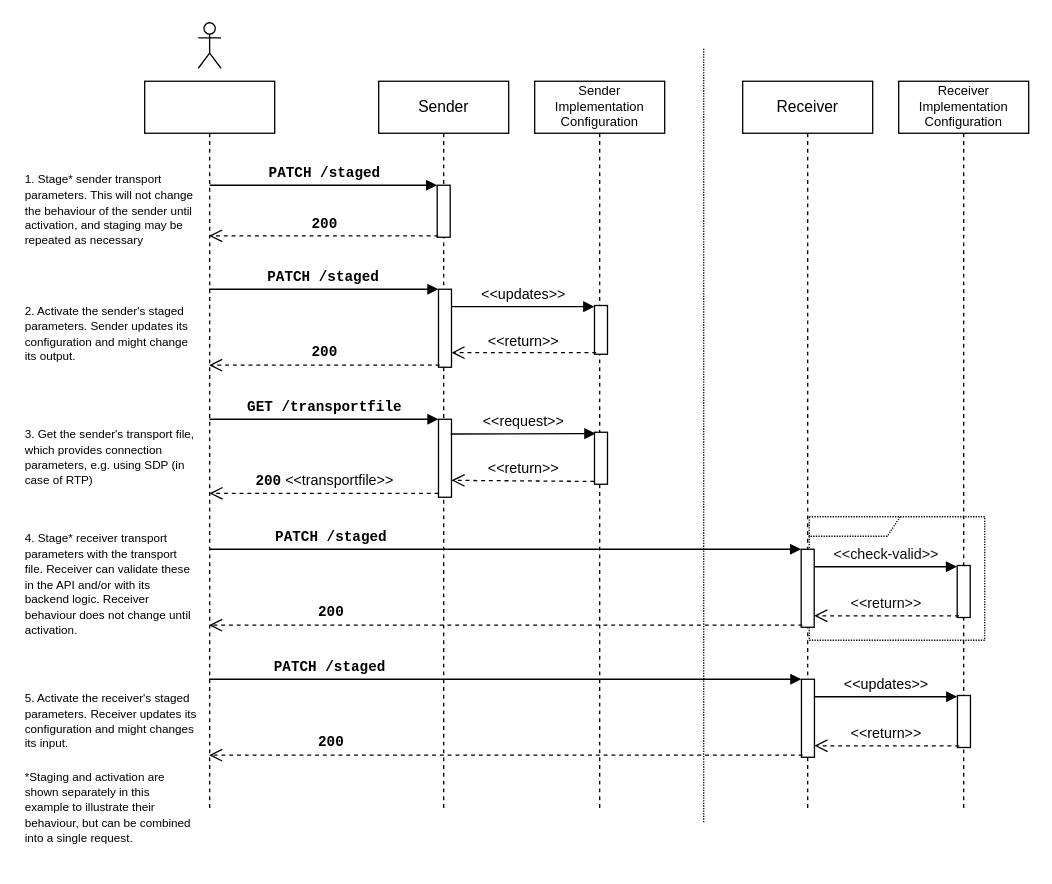
This 1052x884 diagram has some shape labels left out. The shapes that lost their labels are listed below. From the top down, each one's box as (x1, y1, x2, y2) in pixels, then its label:
(143, 80, 275, 809): Client
(808, 515, 985, 640): if required
